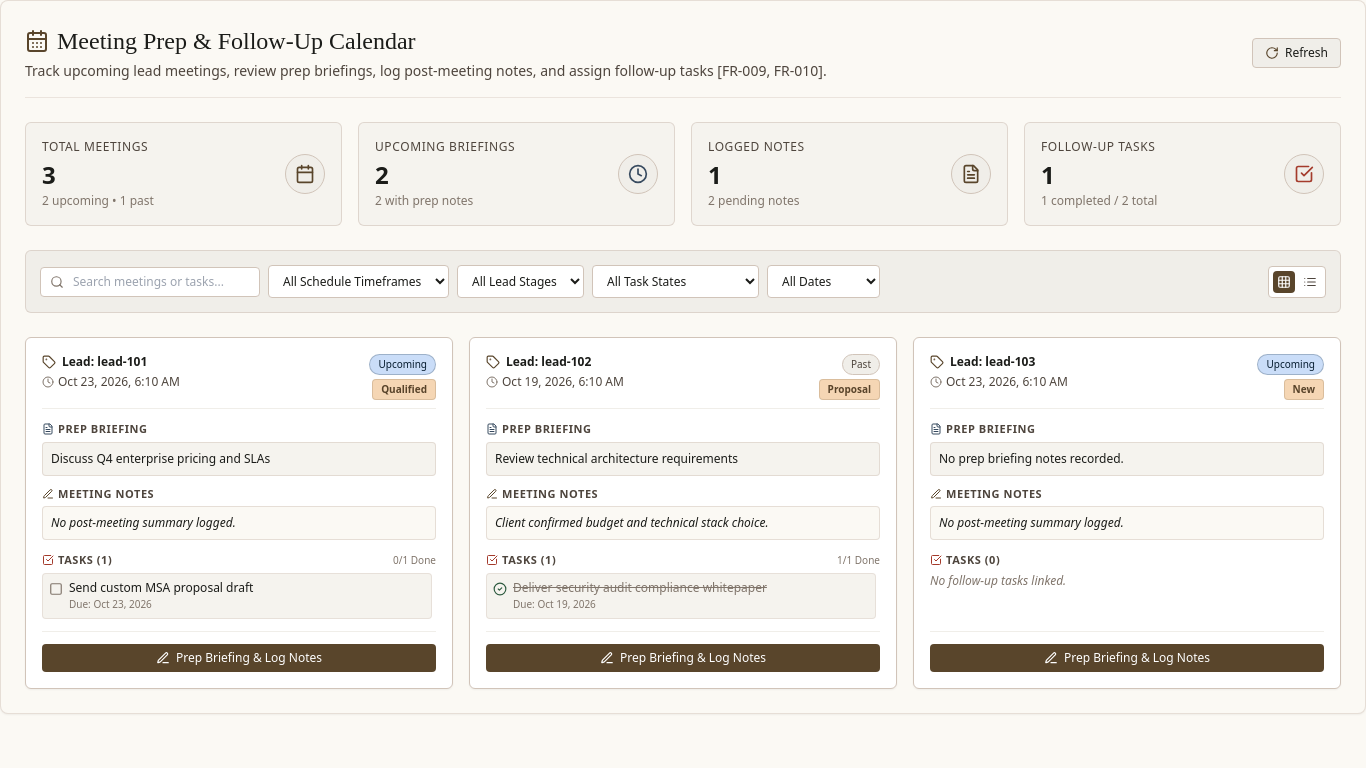
Test case: MeetingCalendar Component [FR-009, FR-010] › Meeting Note Entry & Task Creation Modal [FR-010] › opens note entry modal on clicking card button
Click the button with test id "open-prep-modal-btn-meeting-1" at [239, 658], box 42,644 -> 436,672
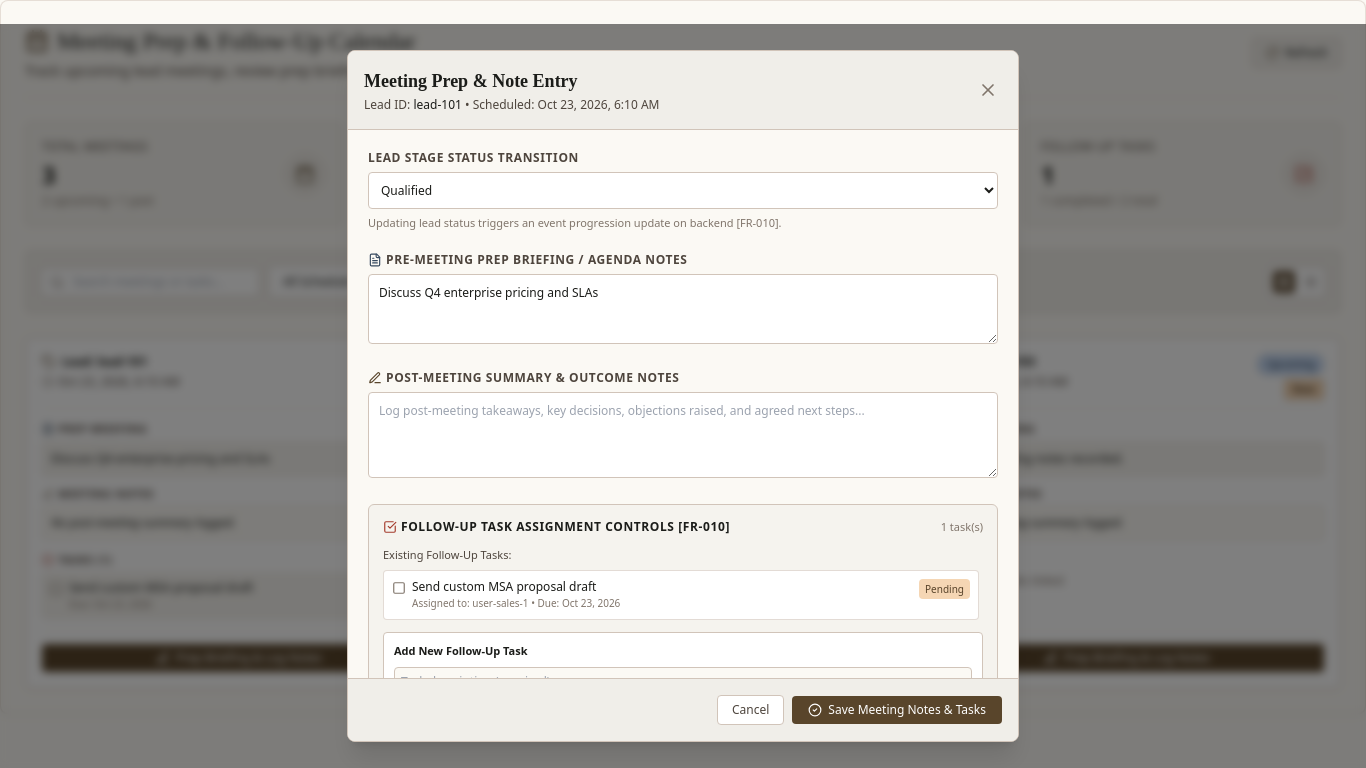
Expected: the dialog with test id "meeting-note-modal" is shown
Expected: the heading "Meeting Prep & Note Entry" is shown, 364,71 -> 578,91
Expected: the text box with test id "prep-notes-textarea" holds "Discuss Q4 enterprise pricing and SLAs", 368,274 -> 998,344
